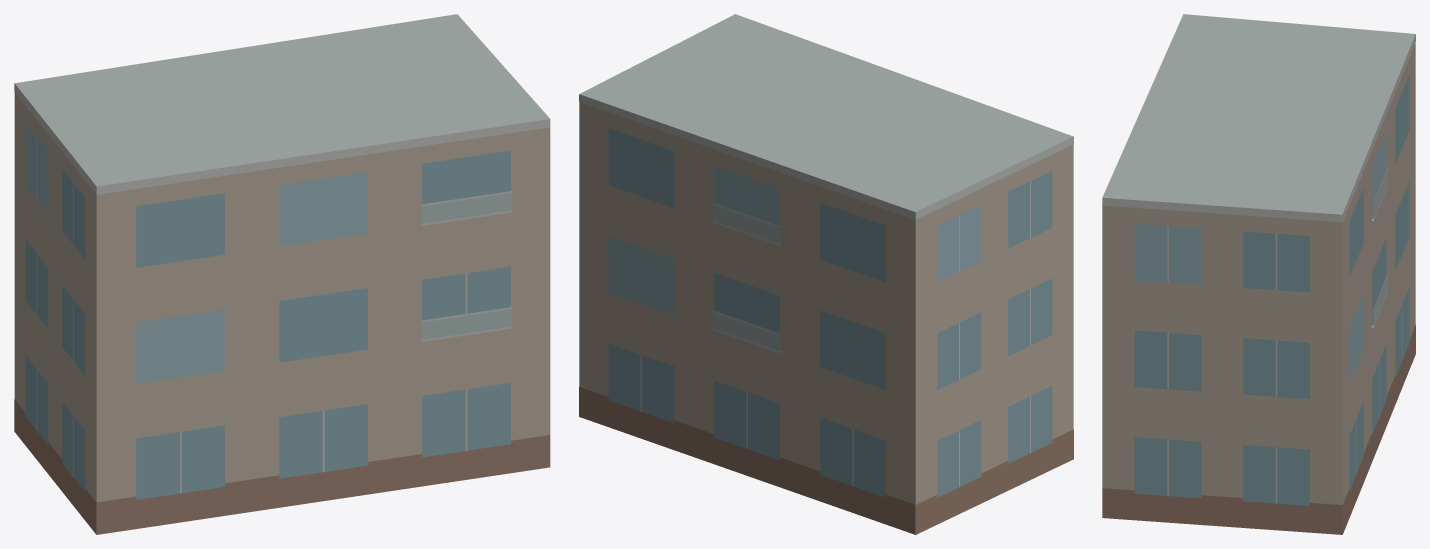
The model's file is survey-upis-32879423.glb.
3 renders of one model, left to right at view 1: azimuth 30°, elevation 25°; view 2: azimuth 150°, elevation 25°; view 3: azimuth 270°, elevation 25°, orthographic. The views are drawn at different scales.
Parts seen in each view (by area): view 1: survey-upis-32879423.tmp; view 2: survey-upis-32879423.tmp; view 3: survey-upis-32879423.tmp.
Part boxes in pixels (x1,y1,x2,y2): survey-upis-32879423.tmp: (14, 14, 550, 534); survey-upis-32879423.tmp: (579, 14, 1073, 534); survey-upis-32879423.tmp: (1102, 14, 1415, 534).
Bounding box in the file's own units: 13.72 × 10.2 × 9.06.
